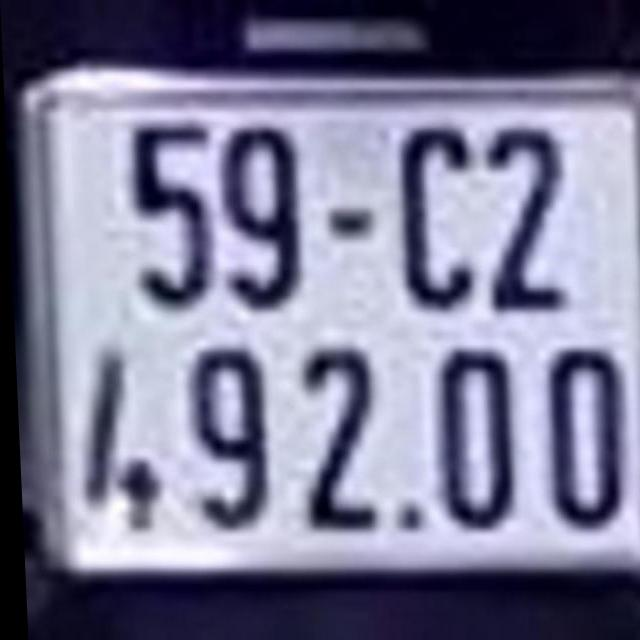0: (544, 346, 620, 521), (435, 350, 510, 524)
2: (484, 129, 568, 306), (299, 350, 373, 530)
4: (75, 354, 161, 534)
5: (130, 124, 212, 300)
9: (183, 346, 265, 528), (217, 132, 297, 308)
C: (397, 125, 474, 308)
